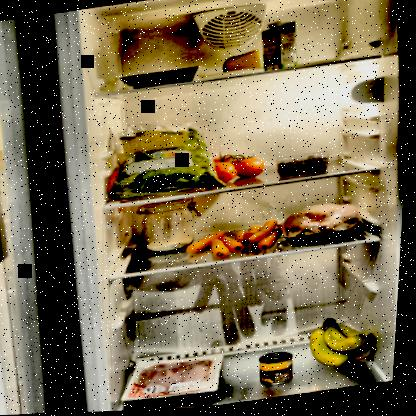banana: (306, 312, 392, 378)
blueberries: (276, 154, 337, 181)
carrot: (186, 217, 288, 264)
cheese: (218, 50, 266, 78)
chicken: (278, 198, 376, 251)
corn: (258, 348, 303, 392)
heavy_cream: (257, 18, 300, 72)
spinach: (104, 118, 228, 204)
tomato: (207, 147, 271, 188)
